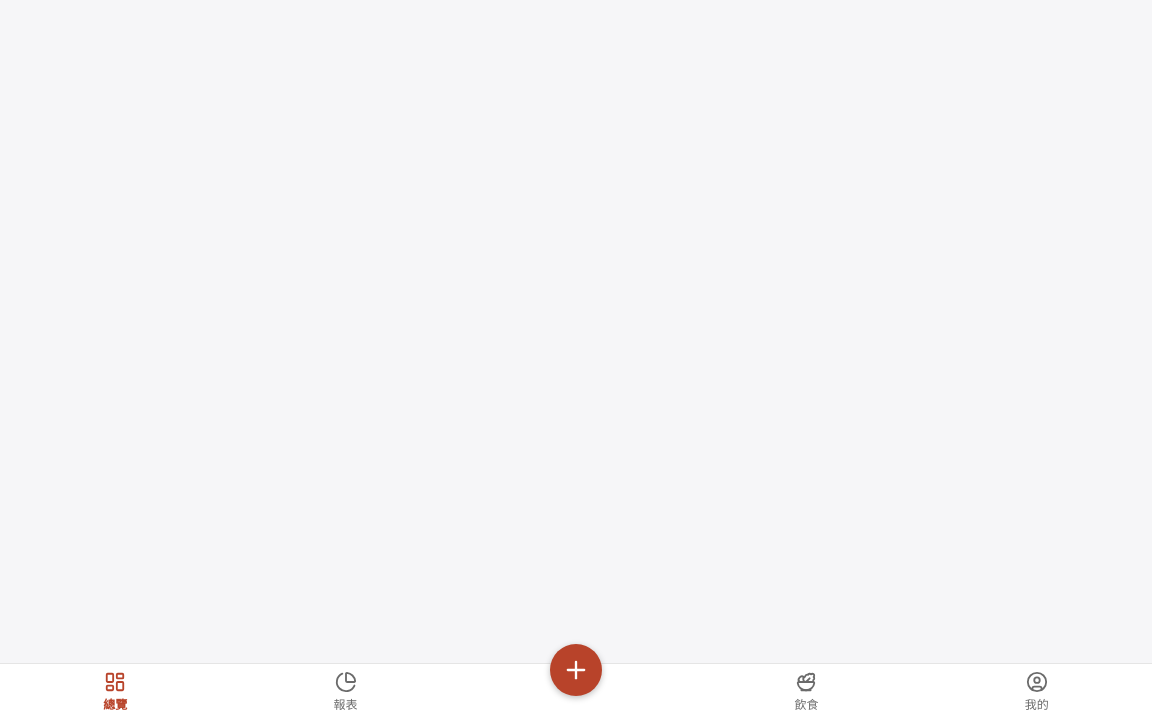
Test: TabBar › 面板裡有「記運動」，連到 /exercises/new；點了面板關掉
The width and height of the screenshot is (1152, 720).
Click the button named "新增紀錄". click: point(576, 670)
box: x1=550 y1=644 x2=602 y2=696
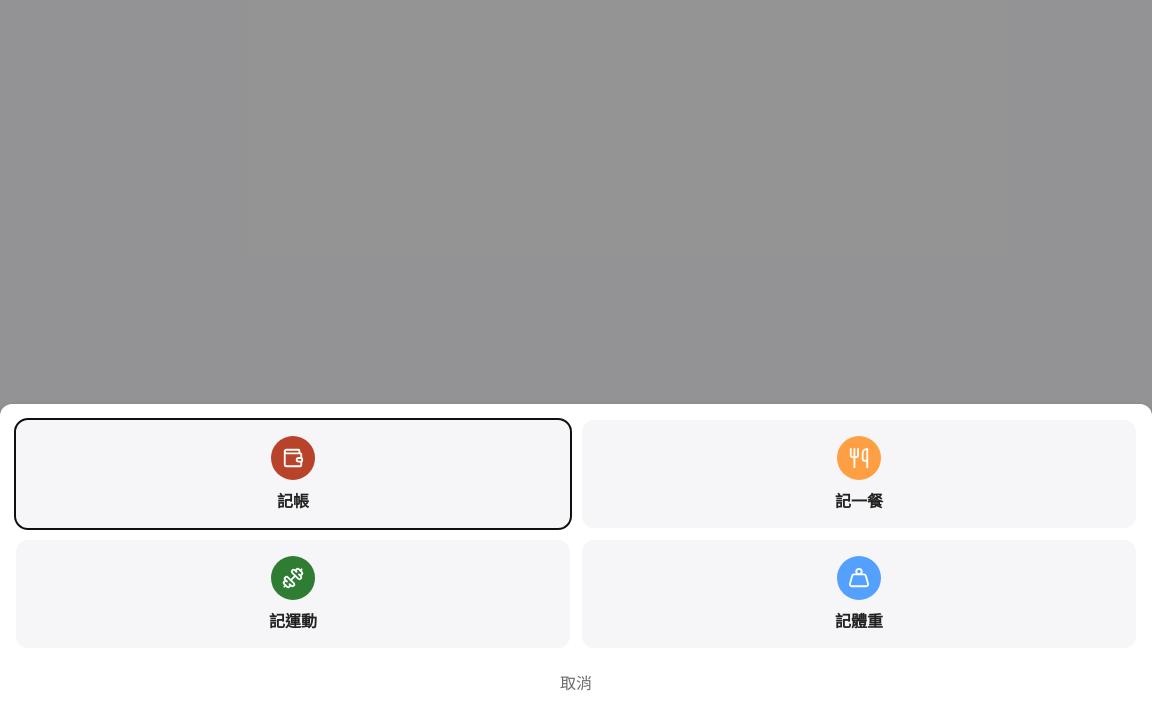
Result: the links read "記帳", "記一餐", "記運動", "記體重", in this order
Click the link "記運動". click: point(293, 594)
box: x1=16 y1=540 x2=570 y2=648
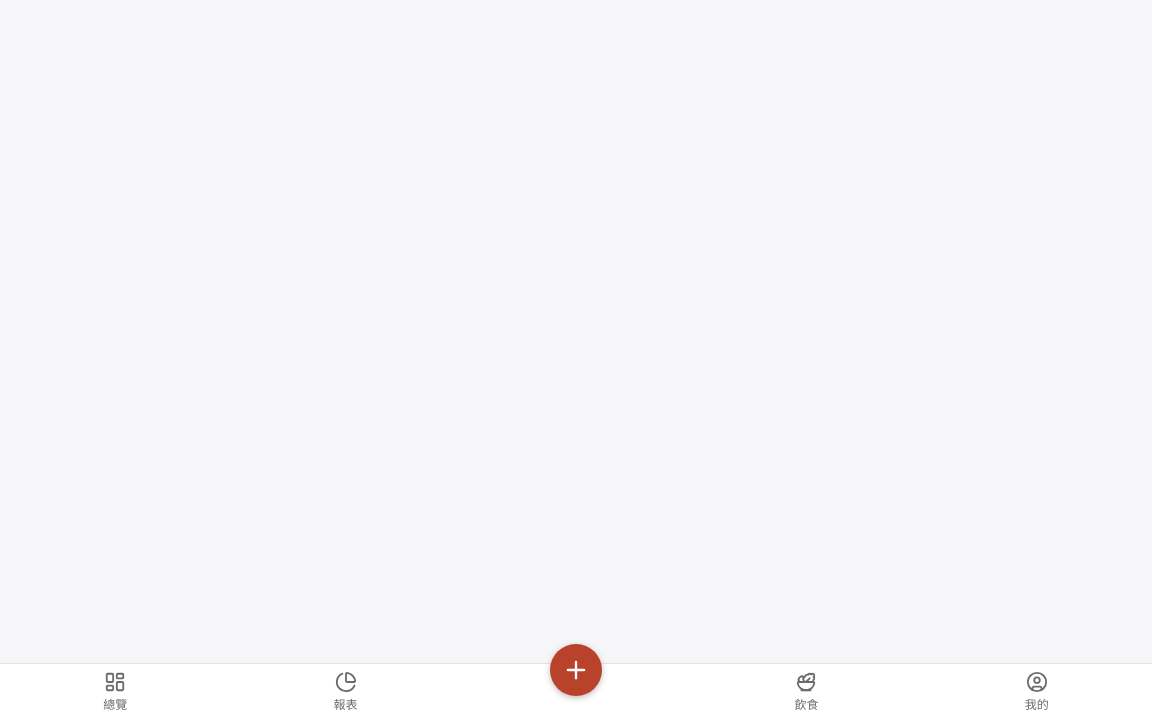
Result: the dialog is gone
